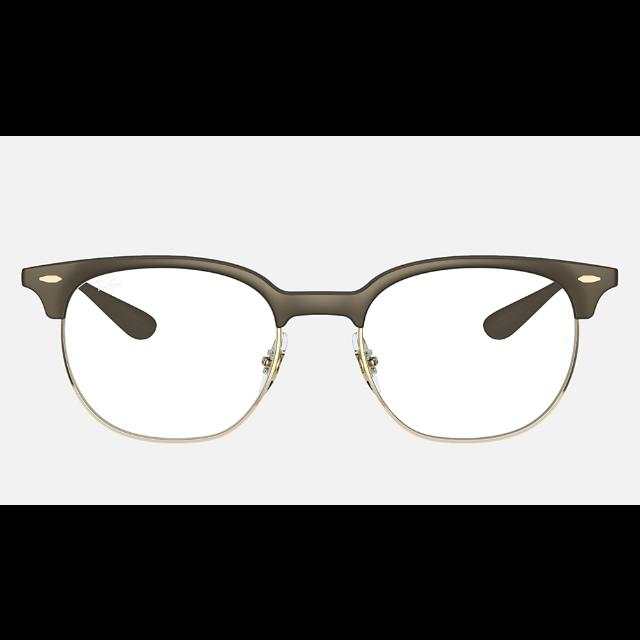glasses: (22, 253, 618, 442)
